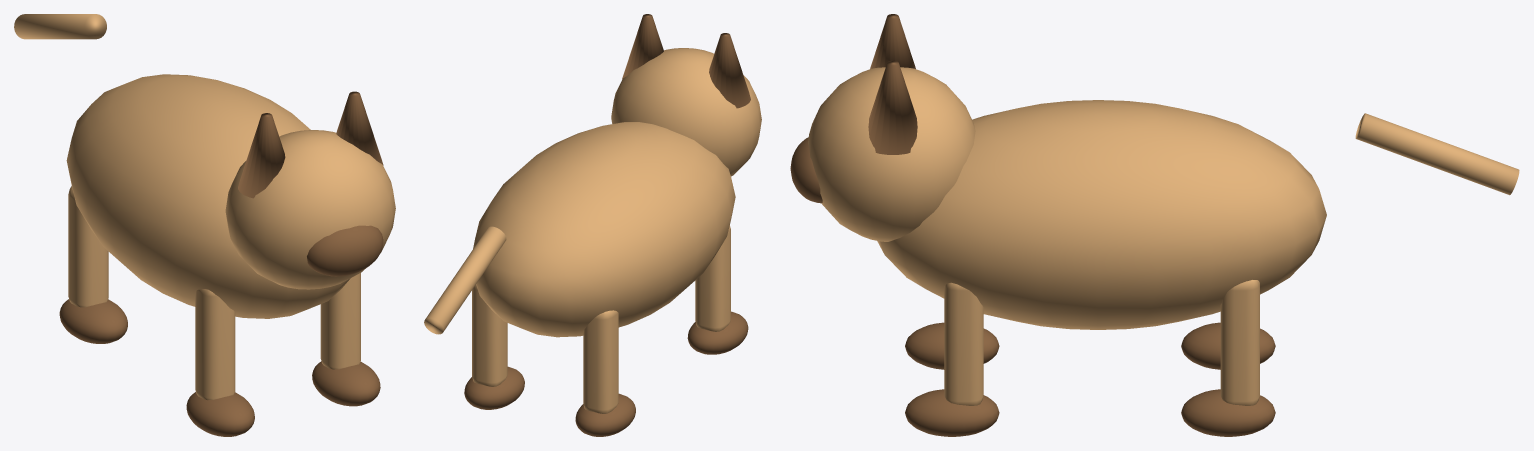
Rendered from cartoon_dog.glb.
3 views of the same model, side by side, from view 1: azimuth 30°, elevation 25°; view 2: azimuth 150°, elevation 25°; view 3: azimuth 270°, elevation 25° (orthographic). The views are drawn at different scales.
Parts seen in each view (by area): view 1: dog_body, dog_head, dog_front_leg_L, dog_back_leg_L, dog_front_leg_R, dog_muzzle, dog_ear_L, dog_front_paw_mesh_R, dog_back_paw_mesh_L, dog_front_paw_mesh_L, dog_tail, dog_ear_R; view 2: dog_body, dog_head, dog_back_leg_L, dog_back_leg_R, dog_tail, dog_front_leg_L, dog_ear_L, dog_back_paw_mesh_R, dog_back_paw_mesh_L, dog_front_paw_mesh_L, dog_ear_R; view 3: dog_body, dog_head, dog_back_leg_R, dog_tail, dog_front_leg_R, dog_ear_R, dog_front_paw_mesh_R, dog_back_paw_mesh_R, dog_front_paw_mesh_L, dog_back_paw_mesh_L, dog_ear_L, dog_muzzle.
Part boxes in pixels (left/top/right/bottom): dog_body: left=66, top=74, right=350, bottom=318; dog_head: left=225, top=130, right=395, bottom=289; dog_front_leg_L: left=195, top=289, right=235, bottom=400; dog_back_leg_L: left=68, top=186, right=108, bottom=307; dog_front_leg_R: left=320, top=273, right=360, bottom=369; dog_muzzle: left=307, top=225, right=383, bottom=276; dog_ear_L: left=238, top=113, right=285, bottom=198; dog_front_paw_mesh_R: left=312, top=361, right=380, bottom=406; dog_back_paw_mesh_L: left=59, top=299, right=127, bottom=343; dog_front_paw_mesh_L: left=186, top=392, right=254, bottom=436; dog_tail: left=14, top=14, right=106, bottom=39; dog_ear_R: left=336, top=91, right=383, bottom=165; dog_body: left=473, top=122, right=735, bottom=337; dog_head: left=611, top=48, right=761, bottom=176; dog_back_leg_L: left=583, top=310, right=618, bottom=413; dog_back_leg_R: left=472, top=284, right=507, bottom=386; dog_tail: left=424, top=226, right=506, bottom=334; dog_front_leg_L: left=695, top=225, right=730, bottom=331; dog_ear_L: left=709, top=33, right=750, bottom=108; dog_back_paw_mesh_R: left=464, top=366, right=524, bottom=409; dog_back_paw_mesh_L: left=575, top=393, right=635, bottom=436; dog_front_paw_mesh_L: left=687, top=311, right=748, bottom=354; dog_ear_R: left=622, top=14, right=663, bottom=79; dog_body: left=877, top=100, right=1326, bottom=329; dog_head: left=808, top=67, right=975, bottom=241; dog_back_leg_R: left=1220, top=280, right=1259, bottom=405; dog_tail: left=1355, top=113, right=1519, bottom=195; dog_front_leg_R: left=944, top=282, right=983, bottom=405; dog_ear_R: left=868, top=60, right=917, bottom=154; dog_front_paw_mesh_R: left=905, top=389, right=999, bottom=436; dog_back_paw_mesh_R: left=1181, top=389, right=1275, bottom=436; dog_front_paw_mesh_L: left=905, top=322, right=999, bottom=369; dog_back_paw_mesh_L: left=1181, top=322, right=1275, bottom=369; dog_ear_L: left=870, top=14, right=915, bottom=68; dog_muzzle: left=790, top=137, right=822, bottom=203.
Size of the model in its own units: 0.3264 by 0.4824 by 0.887.
